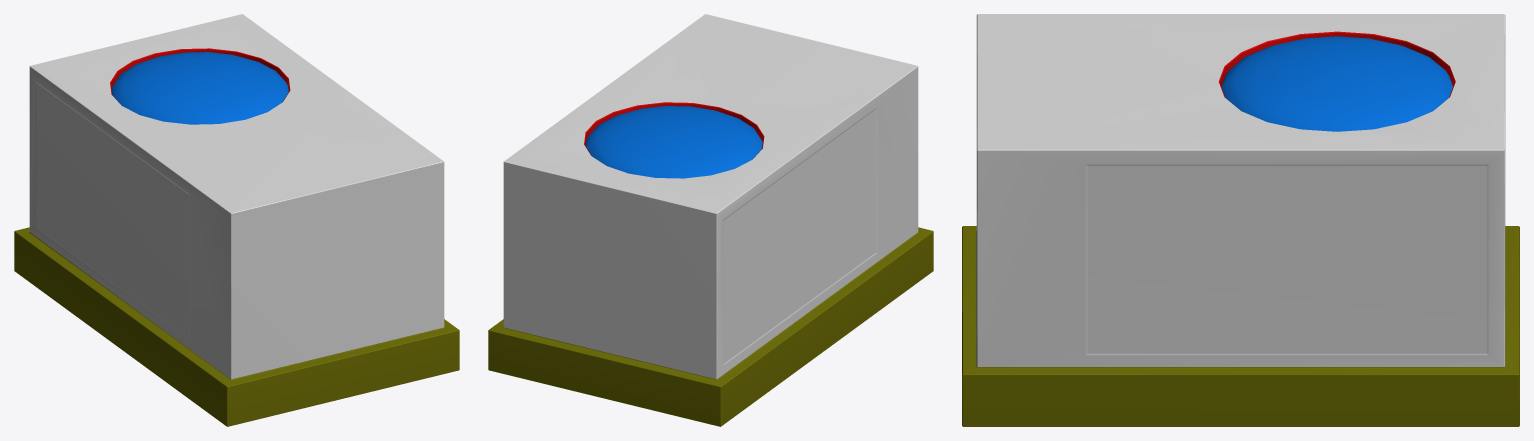
Rendered from RoofDeco_HVAC_Small.FBX.
3 views of the same model, side by side, from view 1: azimuth 30°, elevation 25°; view 2: azimuth 150°, elevation 25°; view 3: azimuth 270°, elevation 25° (orthographic). The views are drawn at different scales.
Visible parts, largest first — view 1: HVAC_Small; view 2: HVAC_Small; view 3: HVAC_Small.
Part boxes in pixels (bbox=[...]): HVAC_Small: bbox=[14, 14, 459, 426]; HVAC_Small: bbox=[488, 14, 933, 426]; HVAC_Small: bbox=[962, 14, 1519, 426].
Size of what is drawn, in the model's own units: 120 by 107 by 190.
